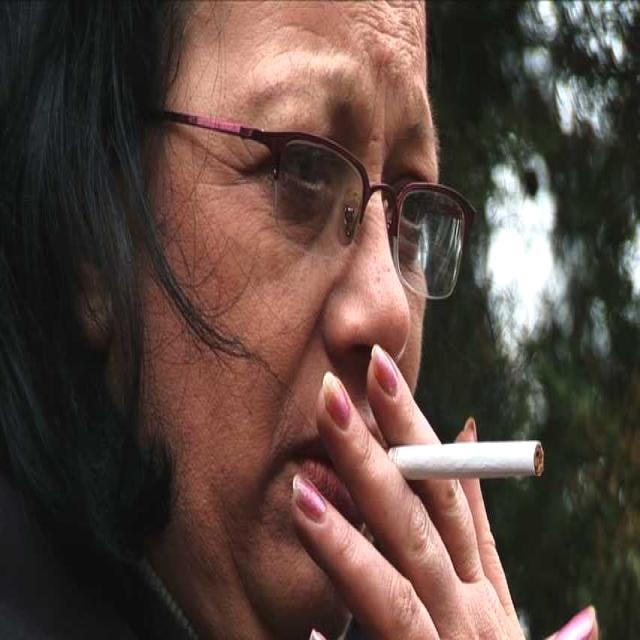Smooking: (388, 394, 550, 510)
